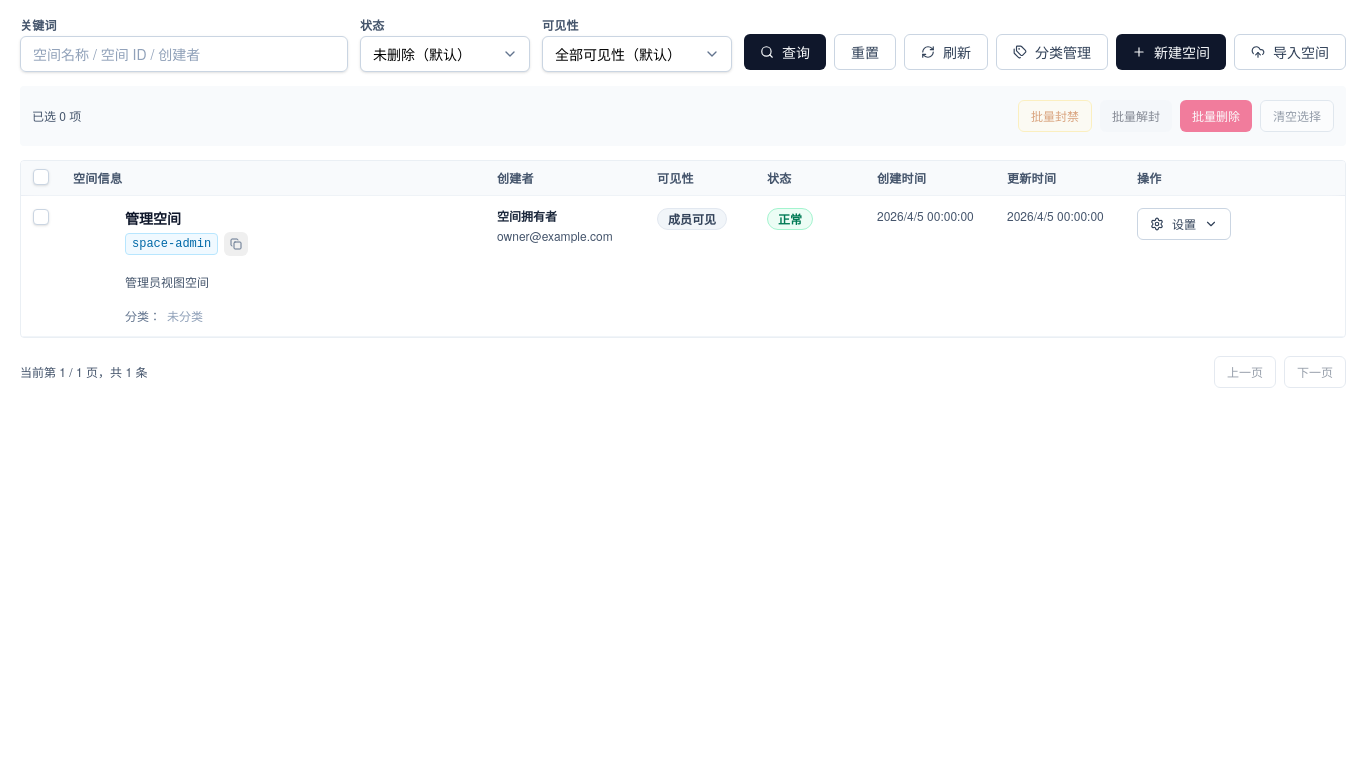
Test case: AdminSpacesPage › explains the selected export format in the side panel
This screenshot has width=1366, height=768.
Click the button with aria-label "展开更多操作" at [1184, 224], box [1137,208,1231,240]
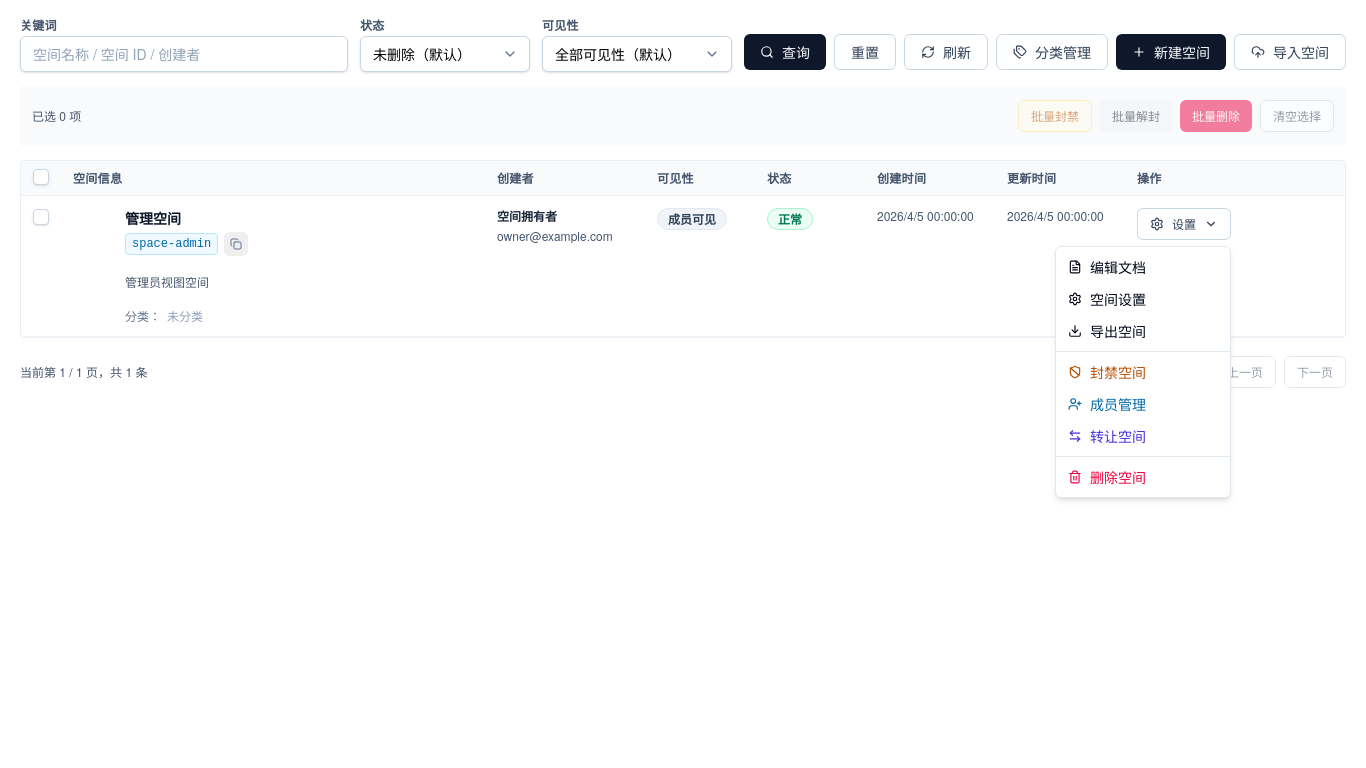
Click the menu item "导出空间" at [1107, 331], box [1068,321,1146,341]
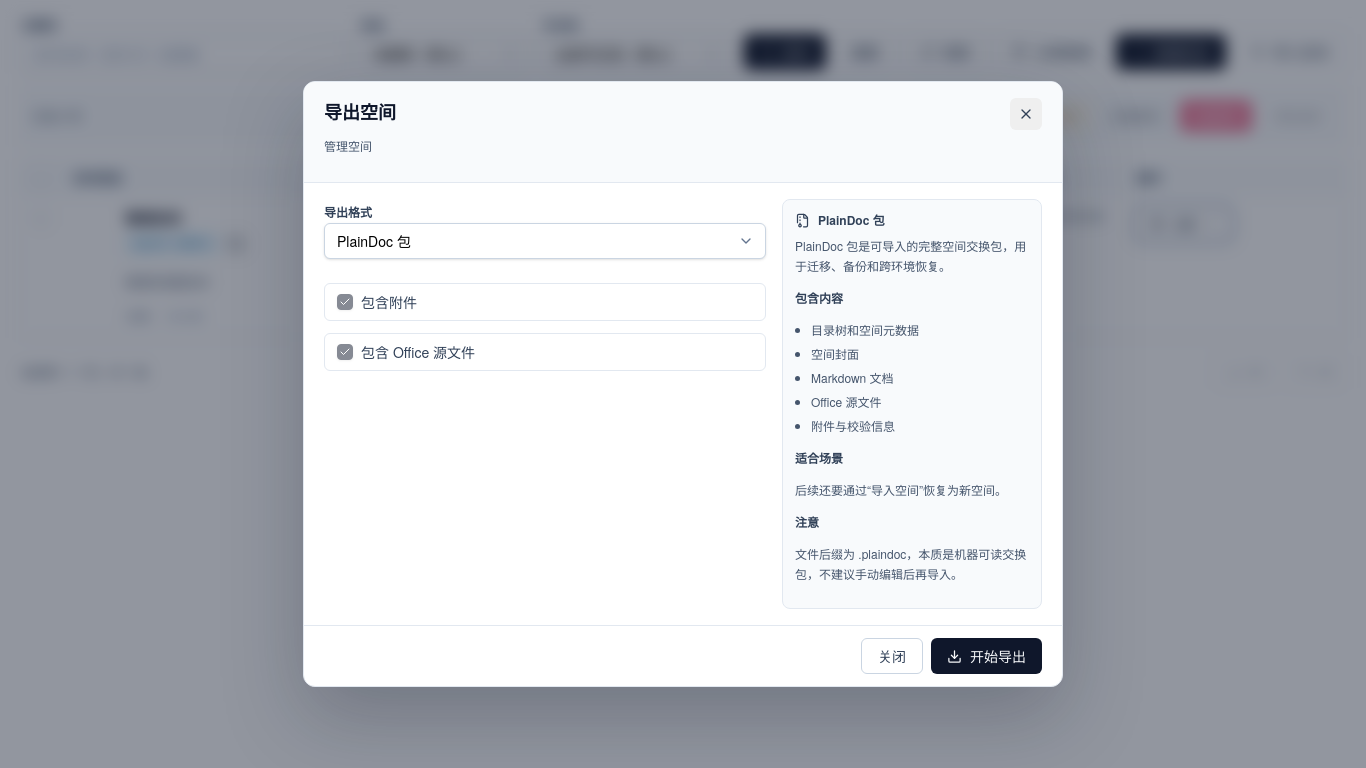
Check: the text "PlainDoc 包是可导入的完整空间交换包，用于迁移、备份和跨环境恢复。" is shown, box [795,236,1029,276]
Check: the list item "目录树和空间元数据" is shown, box [811,321,919,338]
Check: the list item "空间封面" is shown, box [811,345,859,362]
Select "Markdown ZIP" in the dropdown showing "PlainDoc 包" at [545, 241], box [324,223,766,259]
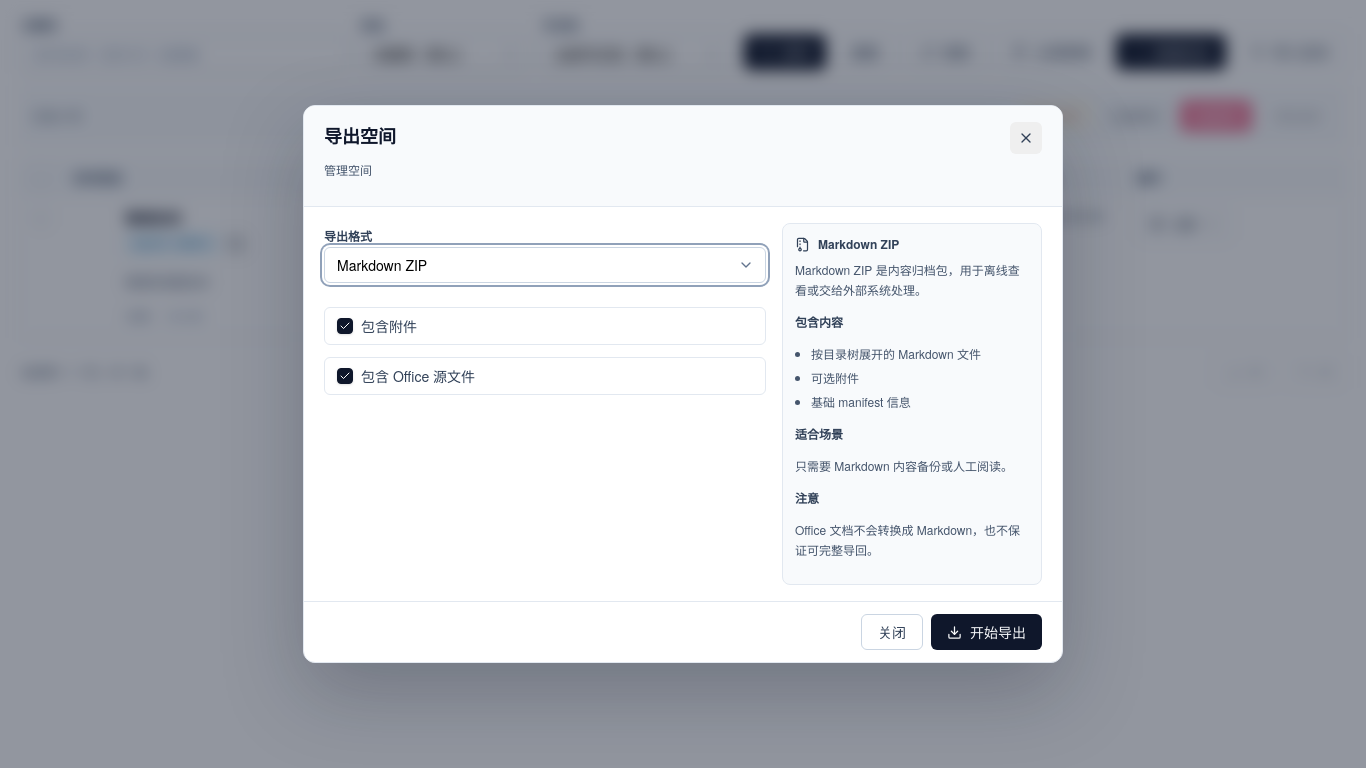
Check: the text "Markdown ZIP 是内容归档包，用于离线查看或交给外部系统处理。" is shown, box [795,260,1029,300]
Check: the text "Office 文档不会转换成 Markdown，也不保证可完整导回。" is shown, box [795,520,1029,560]
Select "EPUB" in the dropdown showing "Markdown ZIP" at [545, 265], box [324,247,766,283]
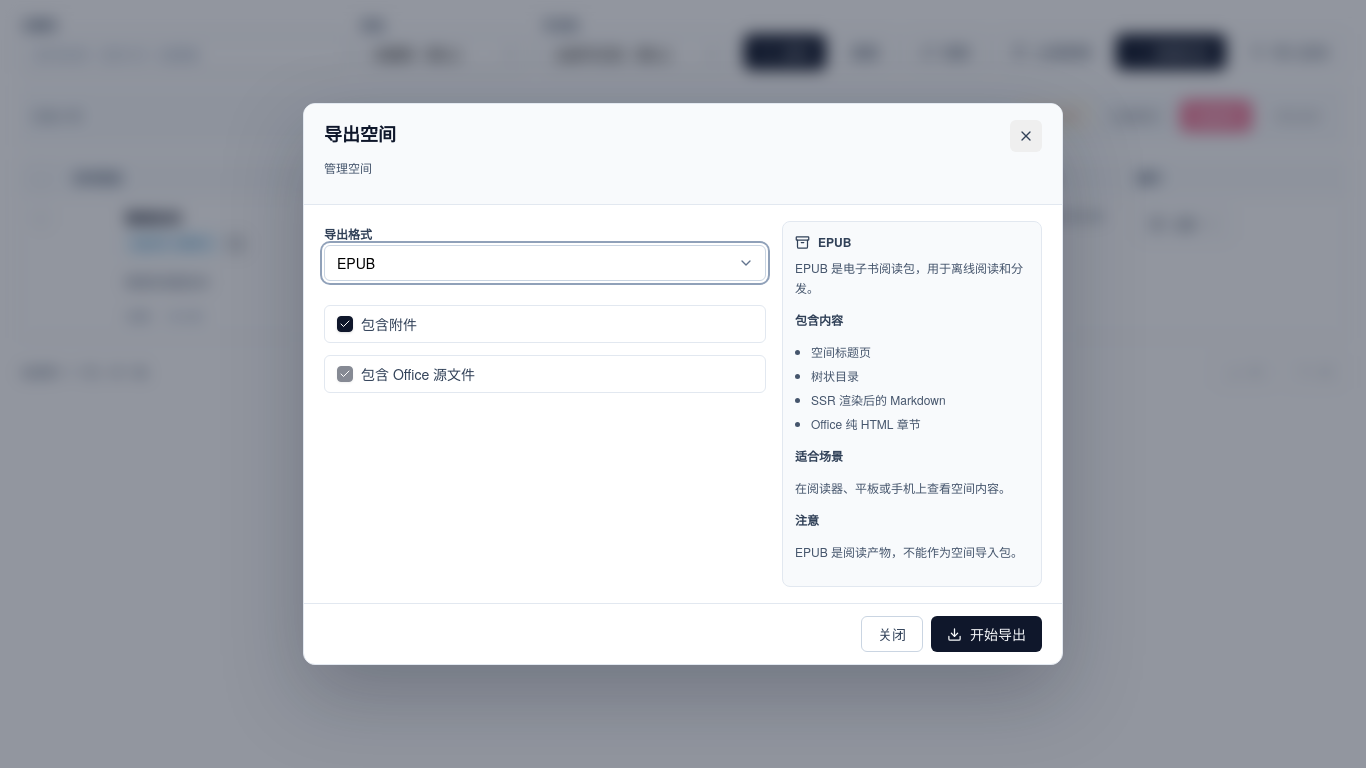
Check: the text "EPUB 是电子书阅读包，用于离线阅读和分发。" is shown, box [795,258,1029,298]
Check: the list item "SSR 渲染后的 Markdown" is shown, box [811,391,946,408]
Check: the text "EPUB 是阅读产物，不能作为空间导入包。" is shown, box [795,542,1029,562]
